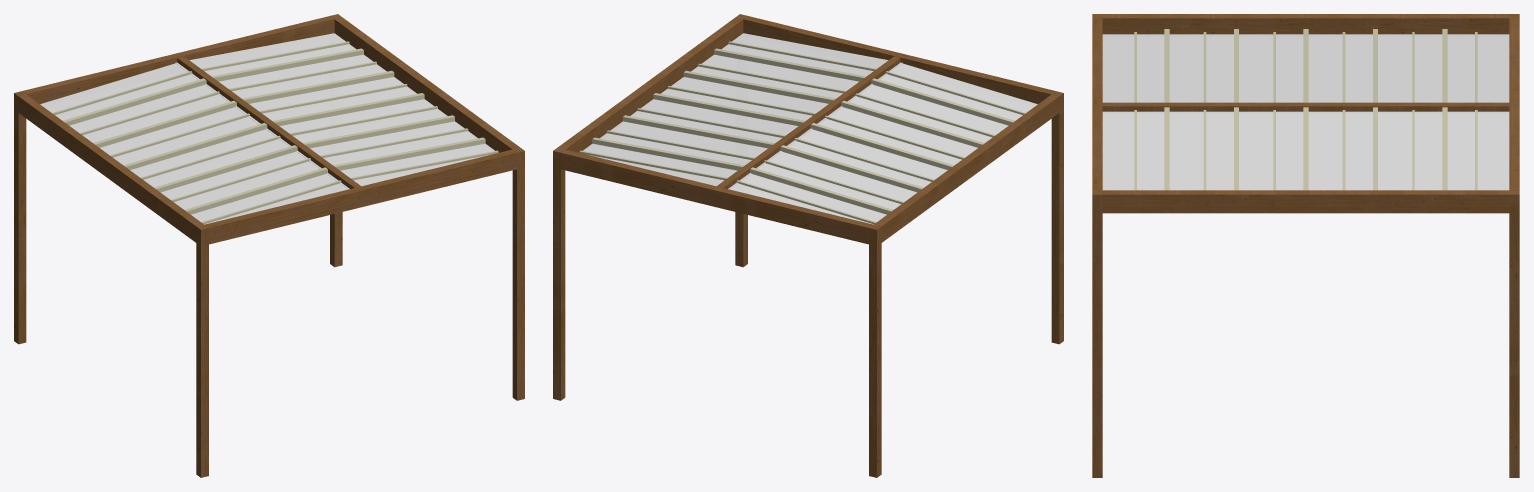
The model's file is hyr-double_h30-w40-l40_naturalpine.fbx.
3 views of the same model, side by side, from view 1: azimuth 30°, elevation 25°; view 2: azimuth 150°, elevation 25°; view 3: azimuth 270°, elevation 25° (orthographic). The views are drawn at different scales.
Visible parts, largest first — view 1: hyr-double_h30-w40-l40_naturalpine; view 2: hyr-double_h30-w40-l40_naturalpine; view 3: hyr-double_h30-w40-l40_naturalpine.
Part boxes in pixels (box(x1,y1,x2,y2)): hyr-double_h30-w40-l40_naturalpine: box(14, 14, 524, 477); hyr-double_h30-w40-l40_naturalpine: box(553, 14, 1063, 477); hyr-double_h30-w40-l40_naturalpine: box(1092, 14, 1519, 477).
Size of the model in its own units: 410 by 300 by 410.
3 materials, 2 textured.
